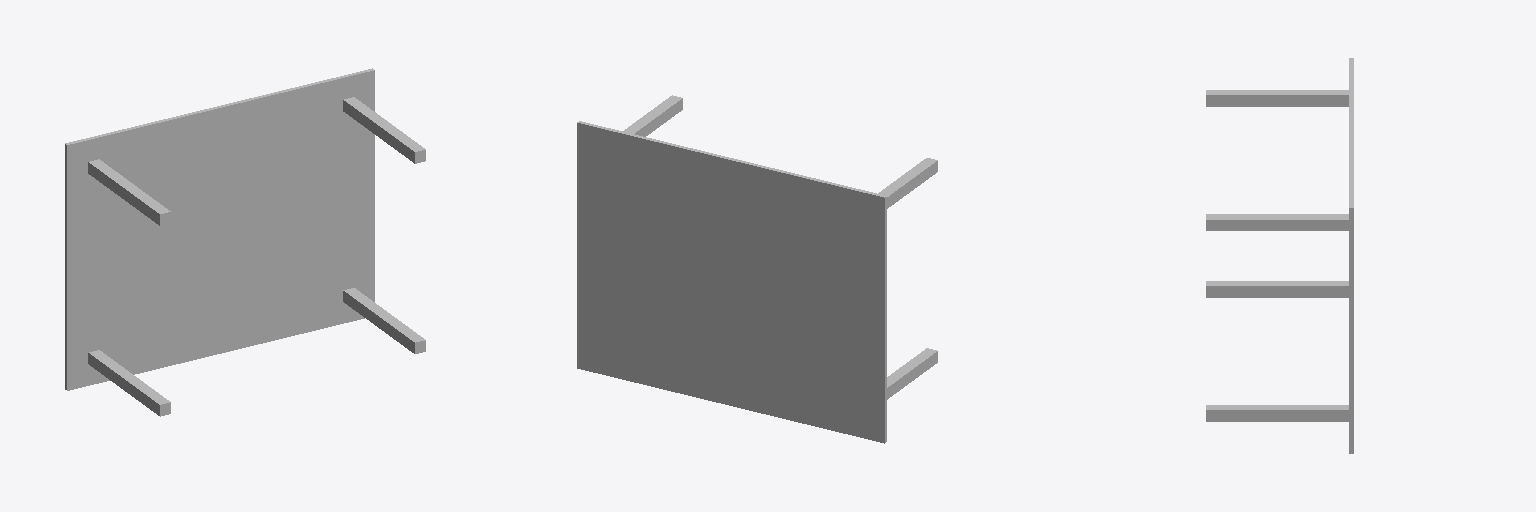
The model's file is random_table20.obj.
The picture shows the model from 3 angles: view 1: azimuth 30°, elevation 25°; view 2: azimuth 150°, elevation 25°; view 3: azimuth 270°, elevation 25°; orthographic projection.
Visible parts, largest first — view 1: Table_Cube.295, TableLeg0_Cube.296, TableLeg1_Cube.297, TableLeg2_Cube.298, TableLeg3_Cube.299; view 2: Table_Cube.295, TableLeg1_Cube.297, TableLeg3_Cube.299, TableLeg0_Cube.296; view 3: TableLeg0_Cube.296, TableLeg1_Cube.297, TableLeg2_Cube.298, TableLeg3_Cube.299, Table_Cube.295.
Boxes of the visible parts, x1,y1,x2,y2 form: Table_Cube.295: [65, 68, 374, 390]; TableLeg0_Cube.296: [343, 97, 425, 163]; TableLeg1_Cube.297: [88, 159, 170, 225]; TableLeg2_Cube.298: [343, 288, 425, 353]; TableLeg3_Cube.299: [88, 350, 170, 416]; Table_Cube.295: [577, 121, 886, 443]; TableLeg1_Cube.297: [878, 158, 937, 208]; TableLeg3_Cube.299: [887, 348, 937, 399]; TableLeg0_Cube.296: [623, 95, 682, 136]; TableLeg0_Cube.296: [1206, 214, 1348, 230]; TableLeg1_Cube.297: [1206, 90, 1348, 106]; TableLeg2_Cube.298: [1206, 405, 1348, 421]; TableLeg3_Cube.299: [1206, 281, 1348, 297]; Table_Cube.295: [1349, 58, 1353, 453].
Size of the model in its own units: 8.39 by 6.41 by 3.5.